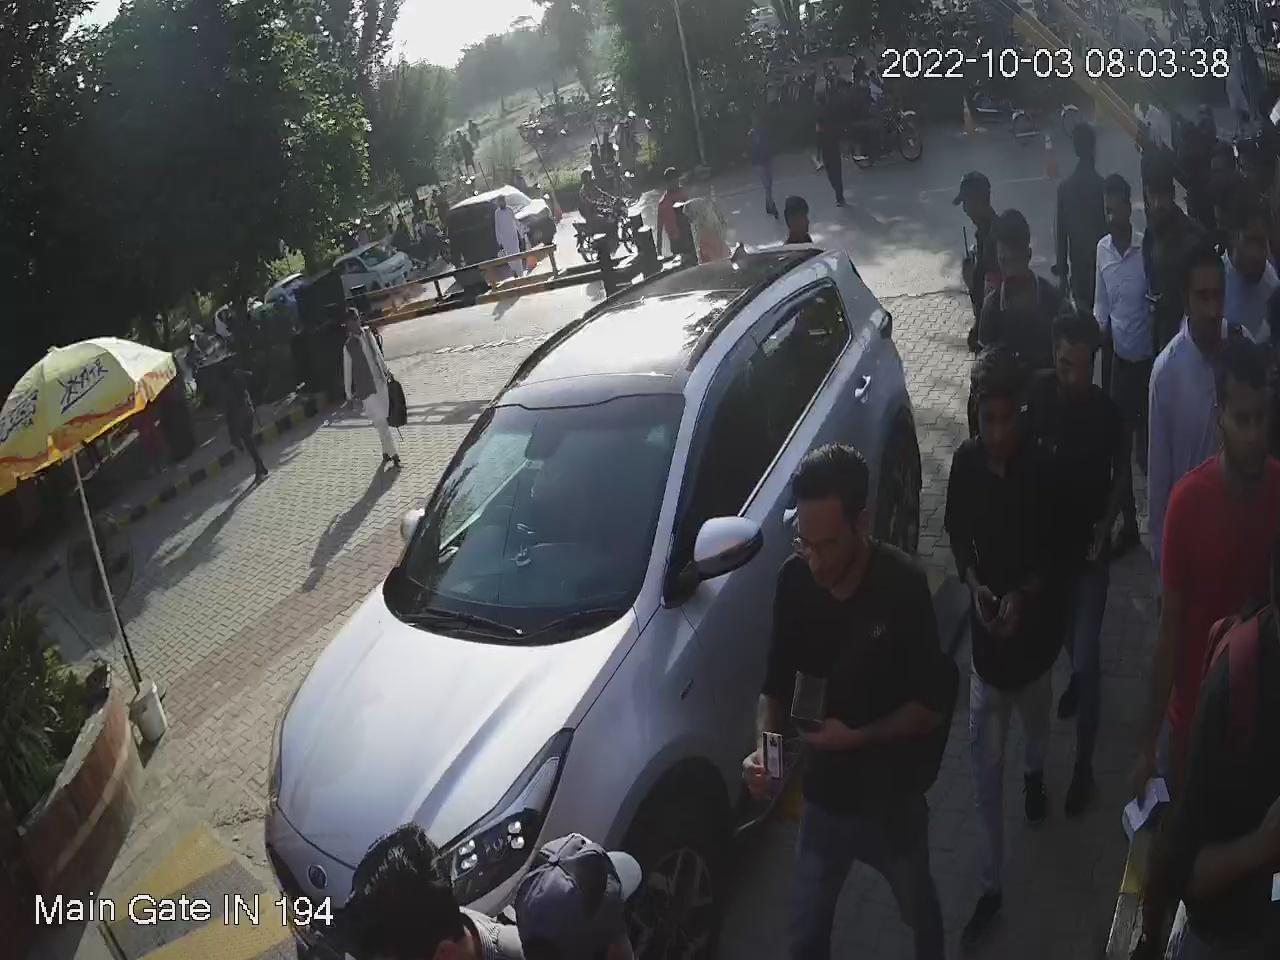windshield: (383, 362, 690, 625)
